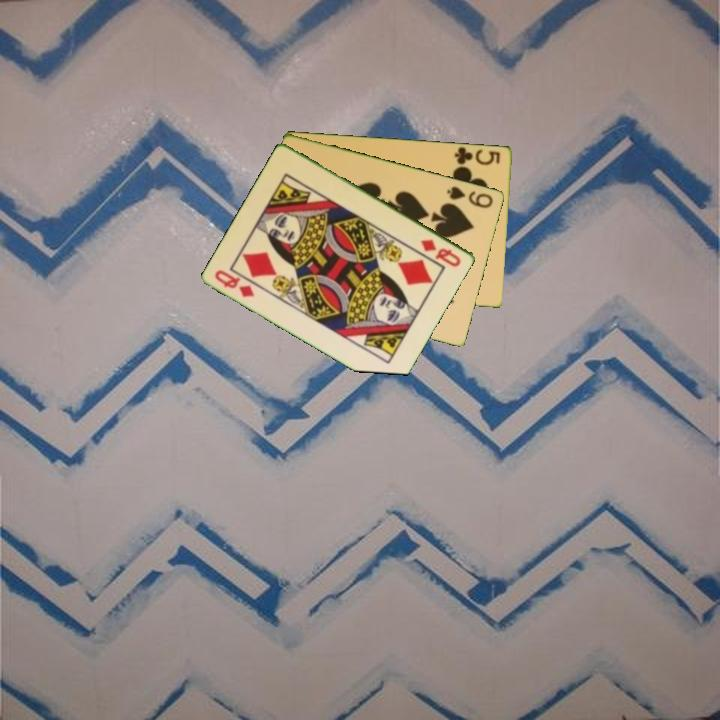5c: (451, 144, 503, 169)
9s: (443, 182, 496, 211)
Qd: (417, 235, 464, 270), (211, 266, 258, 300)
